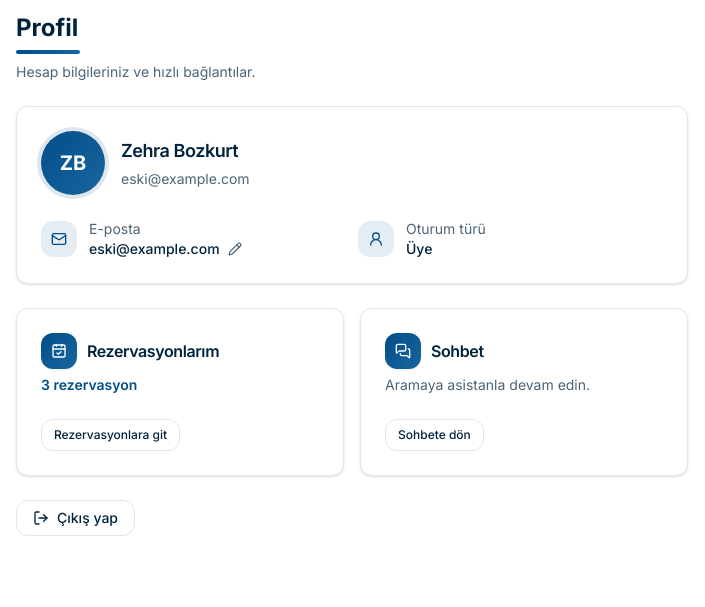
ProfilePage e-posta düzenleme › İptal düzenlemeyi kapatır ve e-postayı değiştirmez
Step 1. Click the button named "E-postayı düzenle" → (235,249), box left=228, top=242, right=242, bottom=256
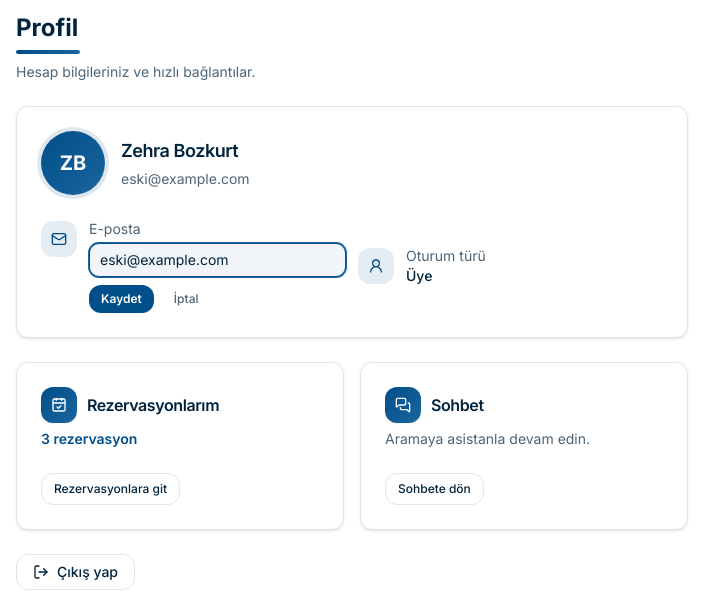
Step 2. Replace the text in the field named "E-posta" with "vazgectim@example.com" → (218,260), box left=89, top=243, right=346, bottom=277
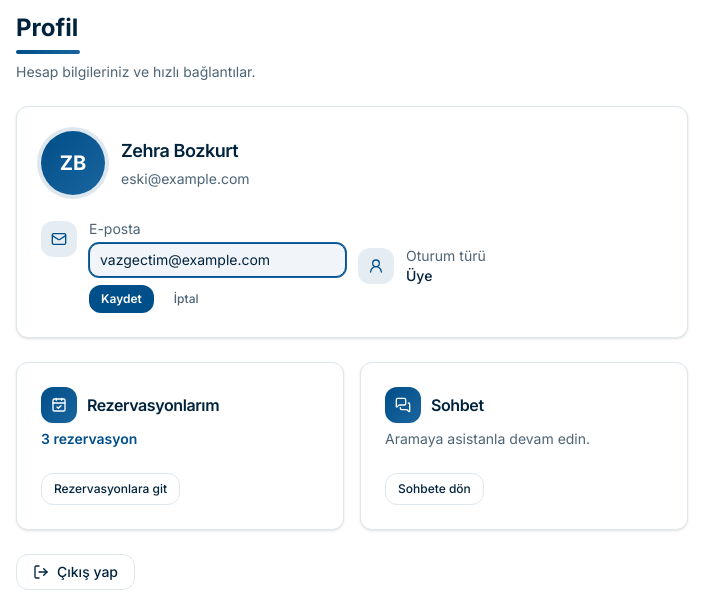
Step 3. Click the button "İptal" → (186,299), box left=162, top=285, right=210, bottom=313
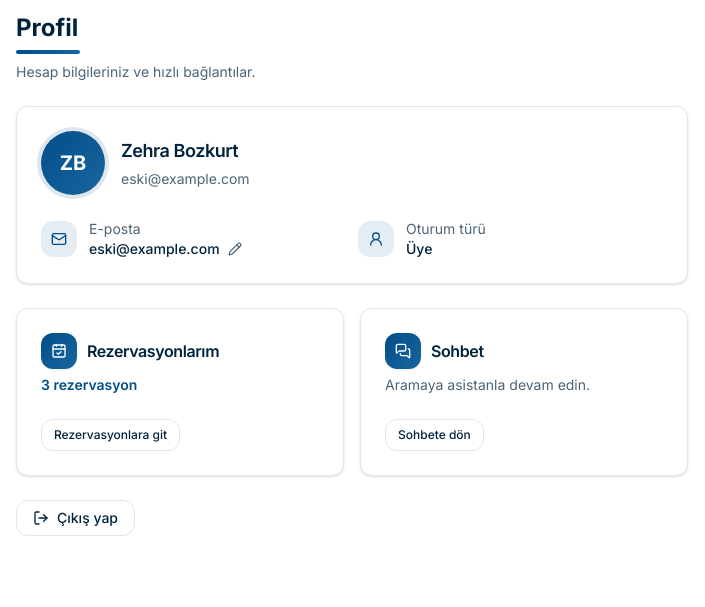
expect the text "eski@example.com" below "Zehra Bozkurt" is shown: met, box left=121, top=170, right=250, bottom=187
expect the button "Kaydet" is gone: met
